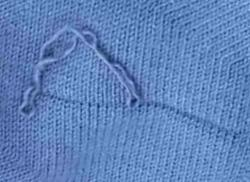snag: (89, 67, 150, 118)
